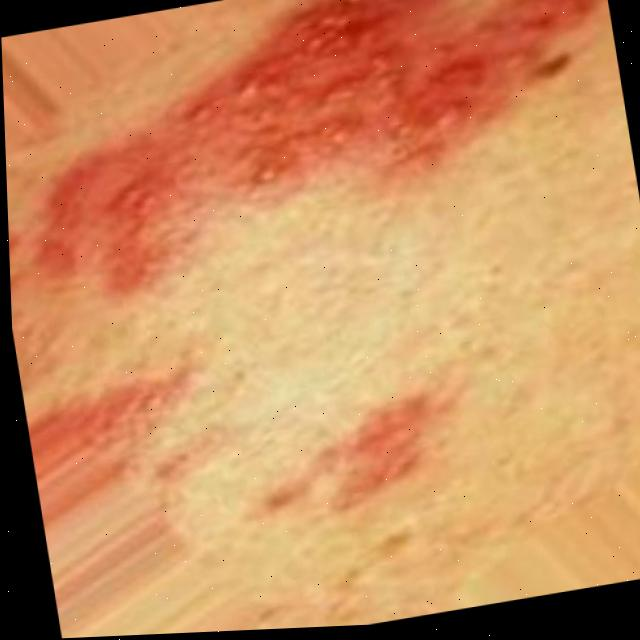Shingles: (55, 0, 573, 240), (307, 383, 454, 505), (100, 371, 181, 452)
